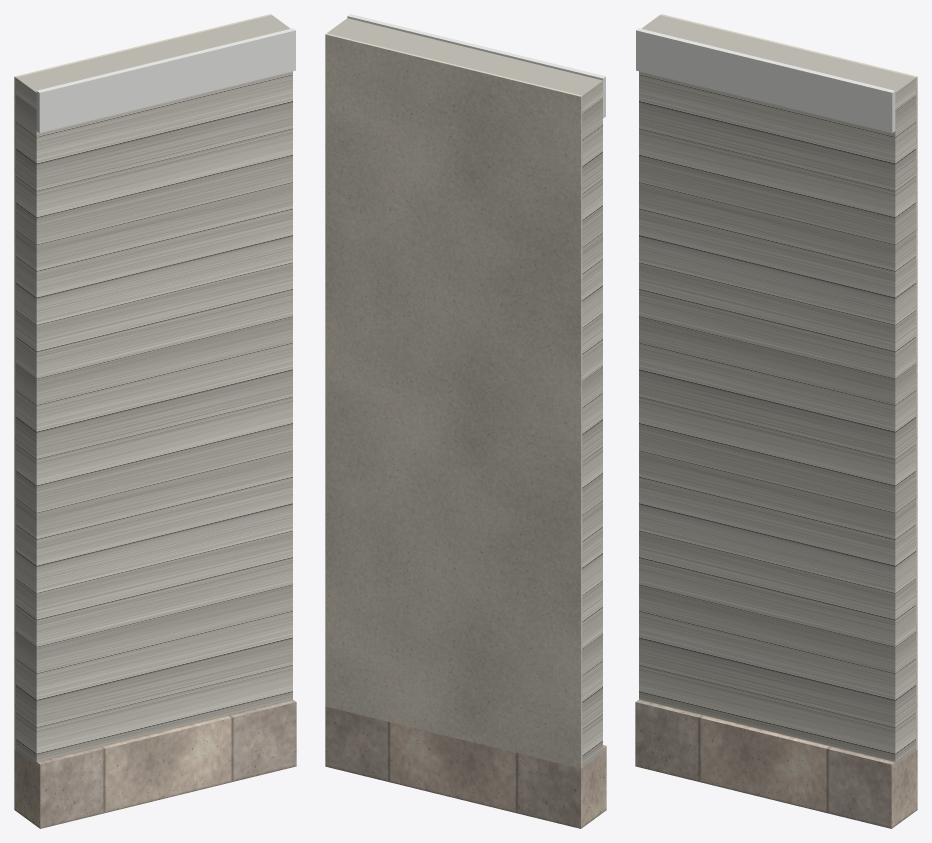
File: nave_wall_plain.glb
3 views of the same model, side by side, from view 1: azimuth 30°, elevation 25°; view 2: azimuth 150°, elevation 25°; view 3: azimuth 330°, elevation 25° (orthographic).
Visible parts, largest first — view 1: nave_wall_plain_siding, nave_wall_plain_stone, nave_wall_plain_trim, nave_wall_plain_plaster; view 2: nave_wall_plain_plaster, nave_wall_plain_siding, nave_wall_plain_stone, nave_wall_plain_trim; view 3: nave_wall_plain_siding, nave_wall_plain_stone, nave_wall_plain_trim, nave_wall_plain_plaster.
Boxes of the visible parts, x1=… form: nave_wall_plain_siding: x1=16, y1=15, x2=292, y2=765; nave_wall_plain_stone: x1=14, y1=699, x2=296, y2=828; nave_wall_plain_trim: x1=36, y1=28, x2=295, y2=132; nave_wall_plain_plaster: x1=14, y1=14, x2=271, y2=750; nave_wall_plain_plaster: x1=325, y1=33, x2=582, y2=768; nave_wall_plain_siding: x1=327, y1=18, x2=602, y2=767; nave_wall_plain_stone: x1=325, y1=706, x2=606, y2=828; nave_wall_plain_trim: x1=347, y1=14, x2=605, y2=118; nave_wall_plain_siding: x1=639, y1=15, x2=915, y2=765; nave_wall_plain_stone: x1=635, y1=699, x2=917, y2=828; nave_wall_plain_trim: x1=636, y1=28, x2=895, y2=132; nave_wall_plain_plaster: x1=660, y1=14, x2=917, y2=750.
Bounding box in the file's own units: 2 × 5.49 × 0.35.
Materials: 4 (3 with a texture image).
